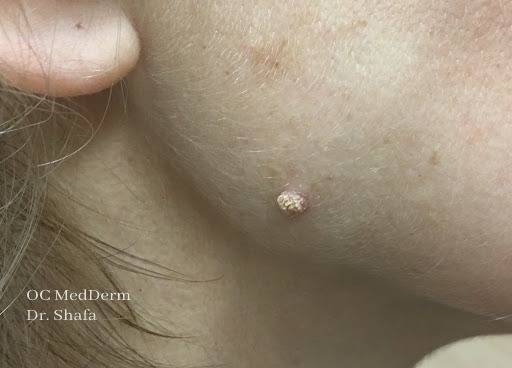Warts: (267, 179, 327, 226)
